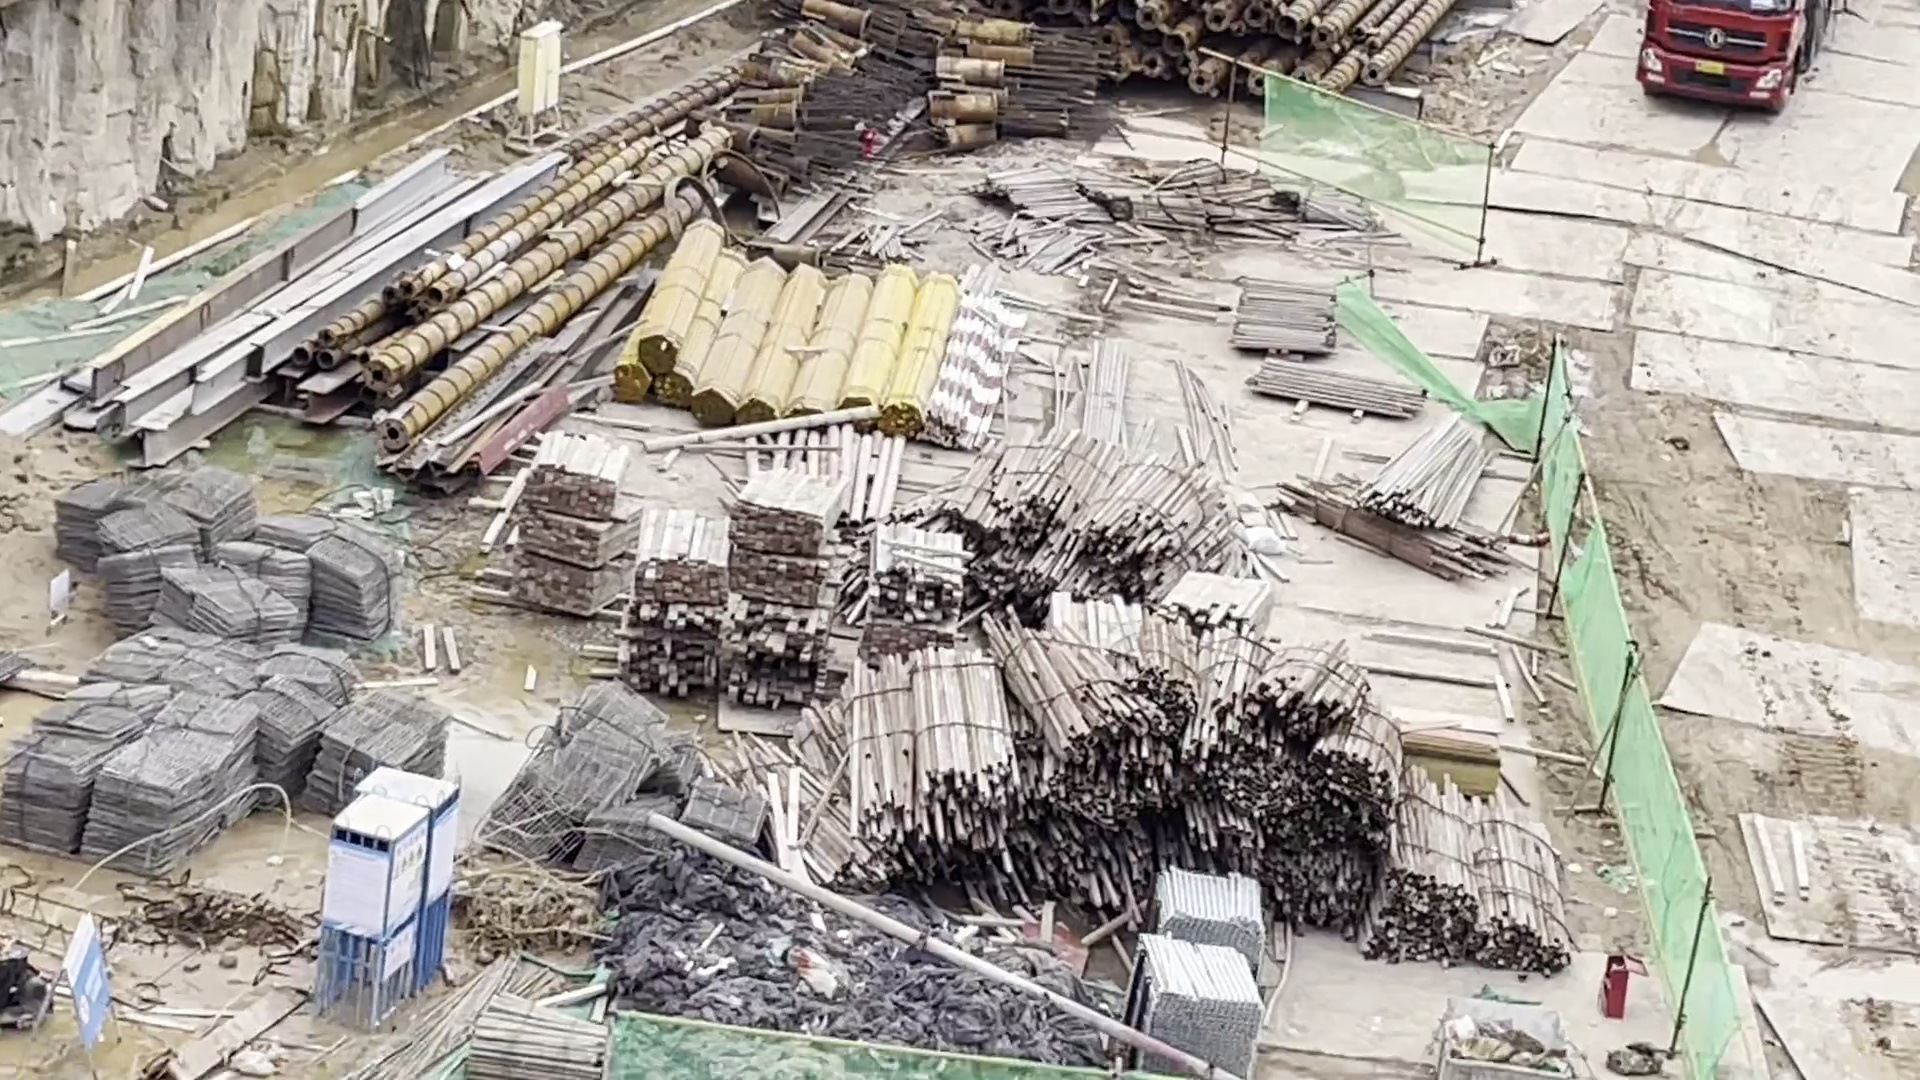hopper: (1440, 996, 1567, 1080)
scaffold: (1141, 865, 1270, 1067)
wood: (506, 429, 967, 709)
